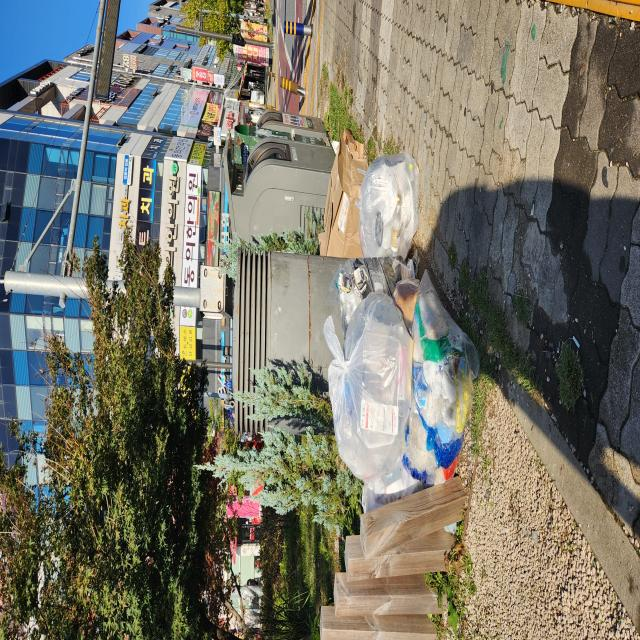CleanNet: (183, 483, 231, 640), (229, 519, 247, 640)
